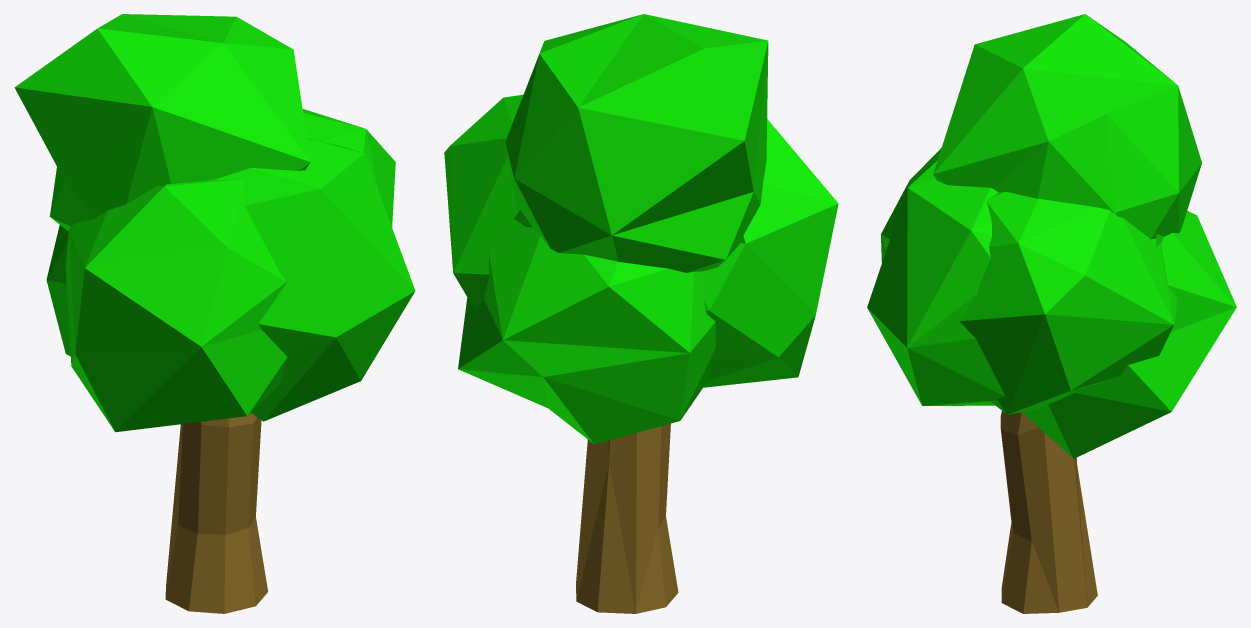
Rendered from Tree#1.fbx.
The picture shows the model from 3 angles, left to right: view 1: azimuth 30°, elevation 25°; view 2: azimuth 150°, elevation 25°; view 3: azimuth 270°, elevation 25°; orthographic projection. The views are drawn at different scales.
Visible parts, largest first — view 1: Tree#1; view 2: Tree#1; view 3: Tree#1.
Part boxes in pixels (box(x1,y1,x2,y2)): Tree#1: box(14, 14, 415, 613); Tree#1: box(444, 14, 838, 613); Tree#1: box(867, 14, 1236, 613).
Bounding box in the file's own units: 347 × 545 × 340.
